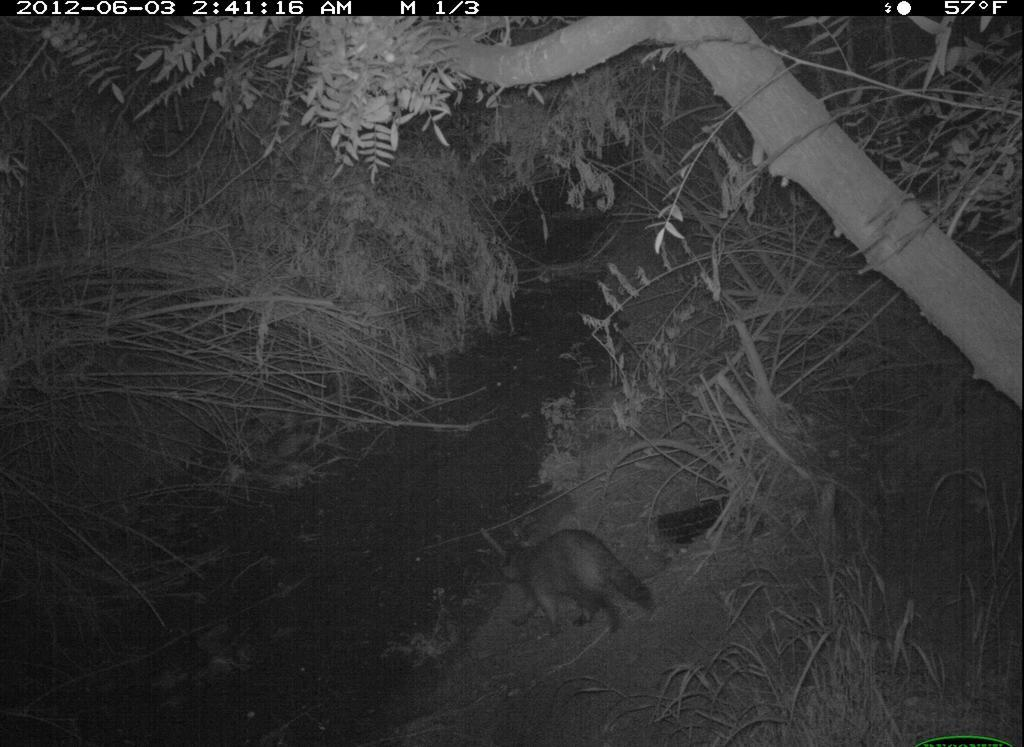raccoon: (475, 506, 674, 648)
